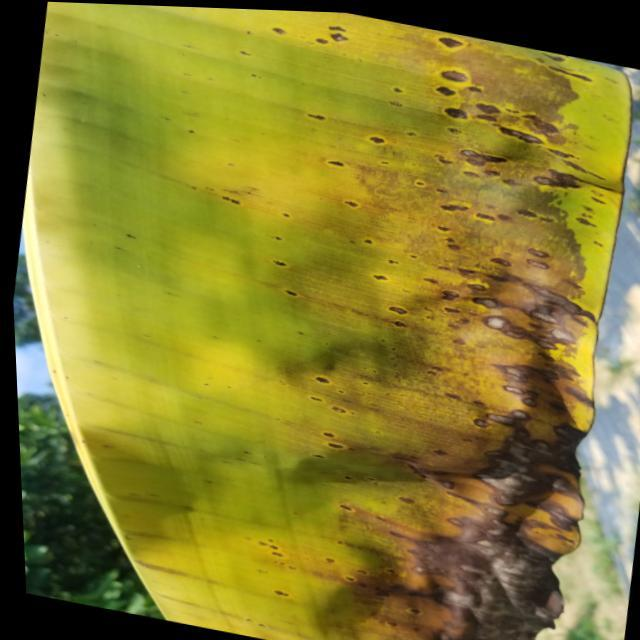Early_rust: (126, 4, 640, 640)
